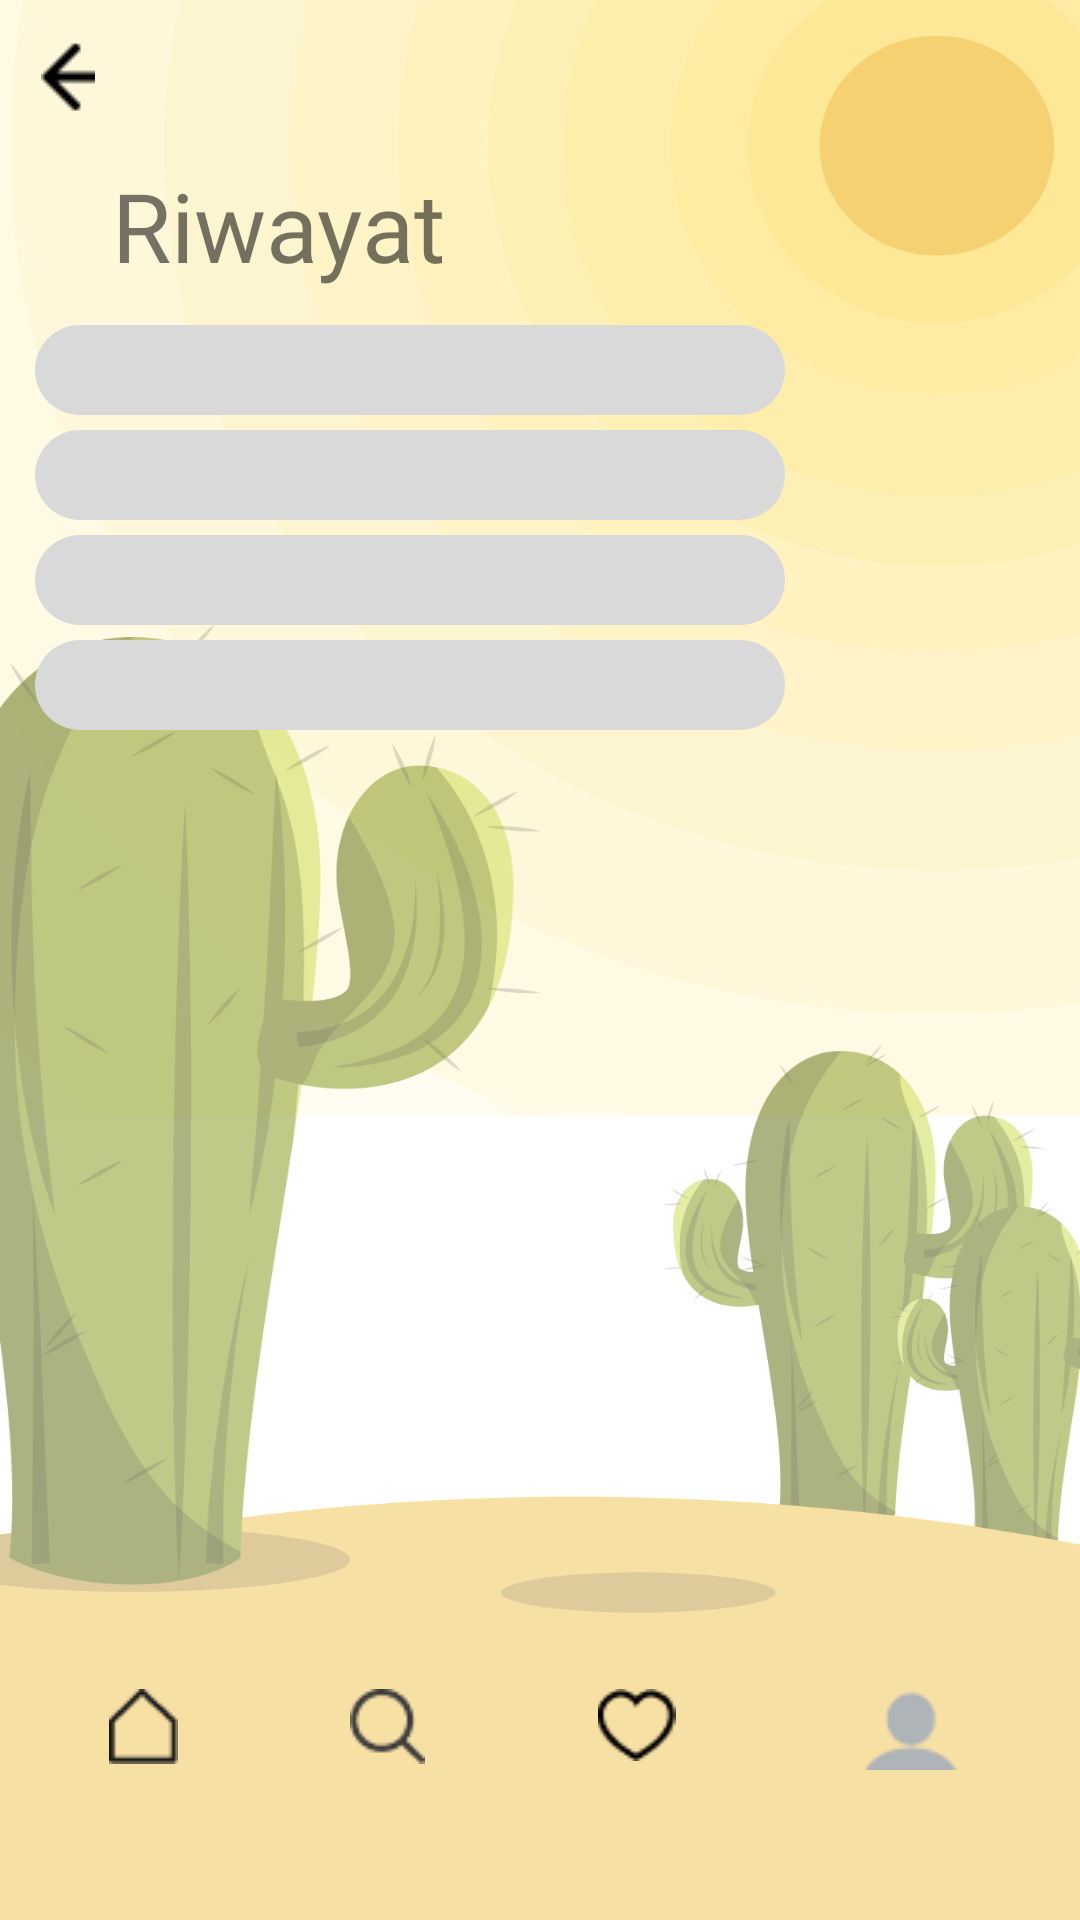

Screen size 1080px×1920px. Icon name, then its box in pixels as (x1, y1, x2, y2):
arrow back: (41, 43, 95, 111)
home: (109, 1689, 178, 1764)
like: (598, 1689, 676, 1761)
person: (866, 1692, 956, 1770)
search: (350, 1689, 425, 1764)
